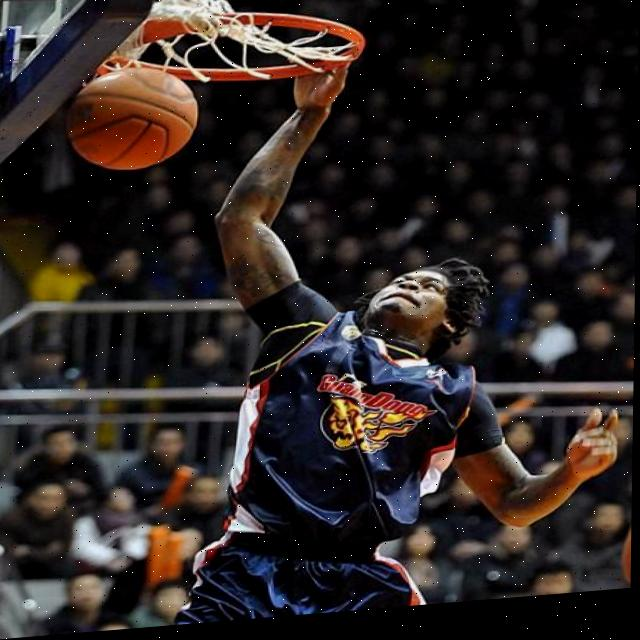basketball: (66, 63, 200, 176)
hoop: (103, 0, 366, 95)
